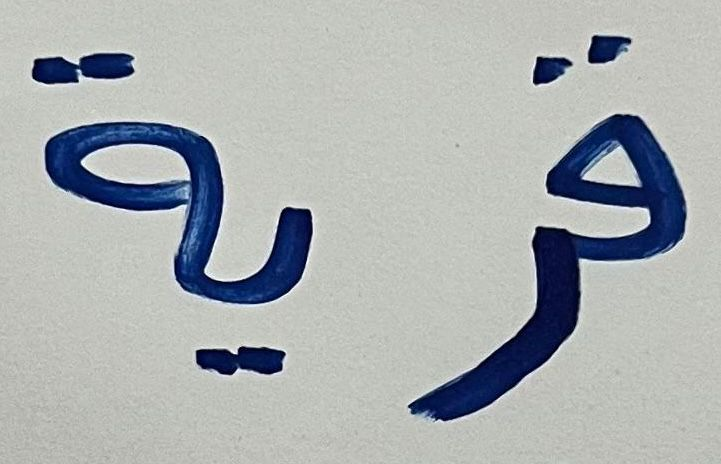qaf: (526, 27, 709, 245)
reh: (392, 252, 631, 440)
teh_marbota: (9, 40, 219, 326)
yeh: (223, 165, 345, 408)
